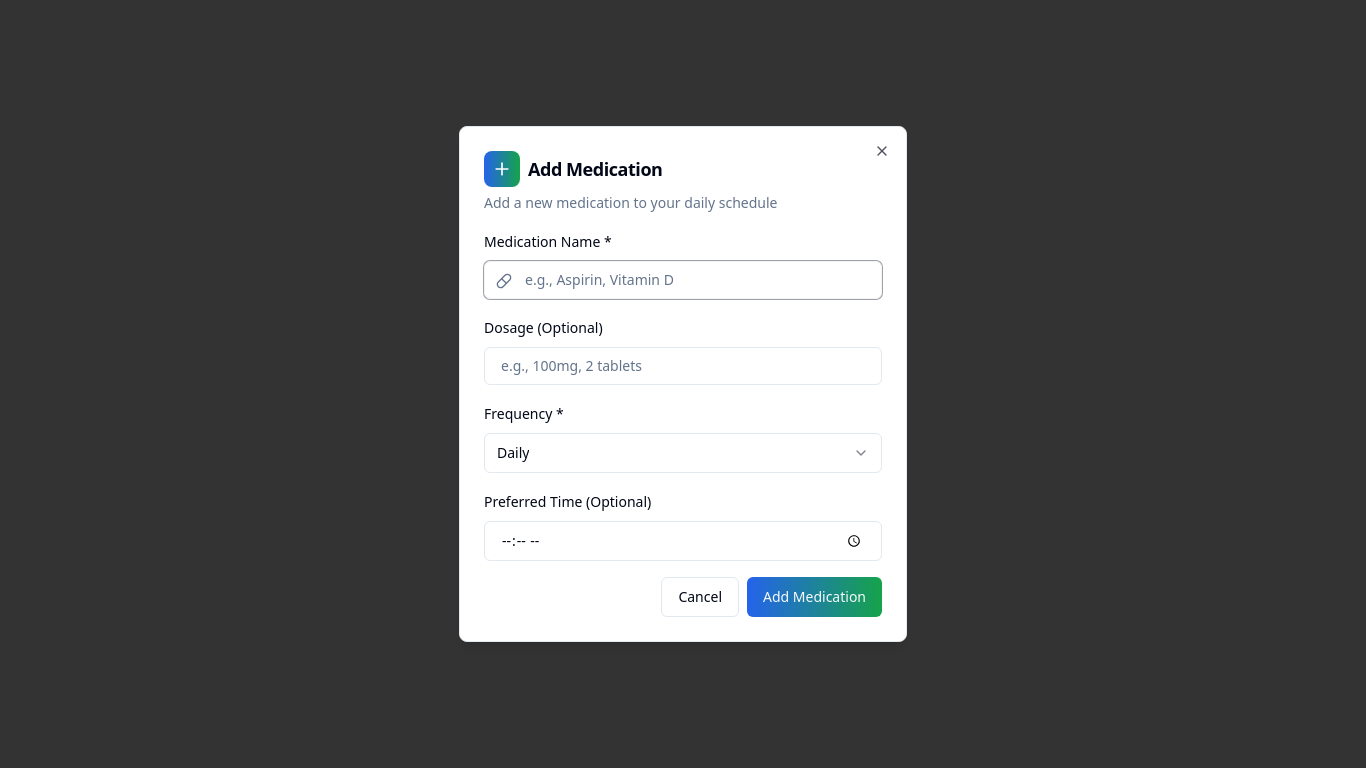
Test: MedicationForm › validates medication name minimum length
The image size is (1366, 768).
Type "A" into the field labelled "Medication Name *".
click(683, 280); type("A")  # box [484,261,882,299]
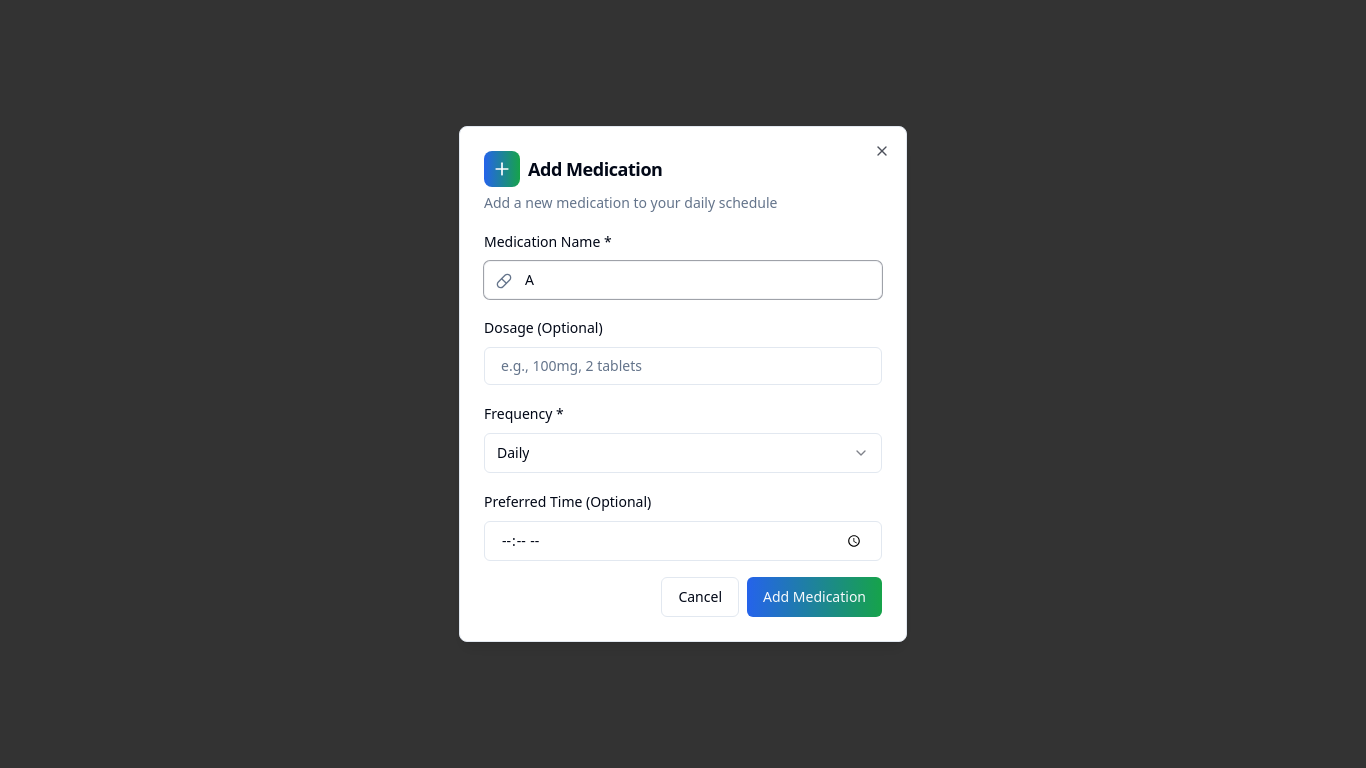
Click the button "Add Medication".
click(814, 597)  # box [747,577,882,617]
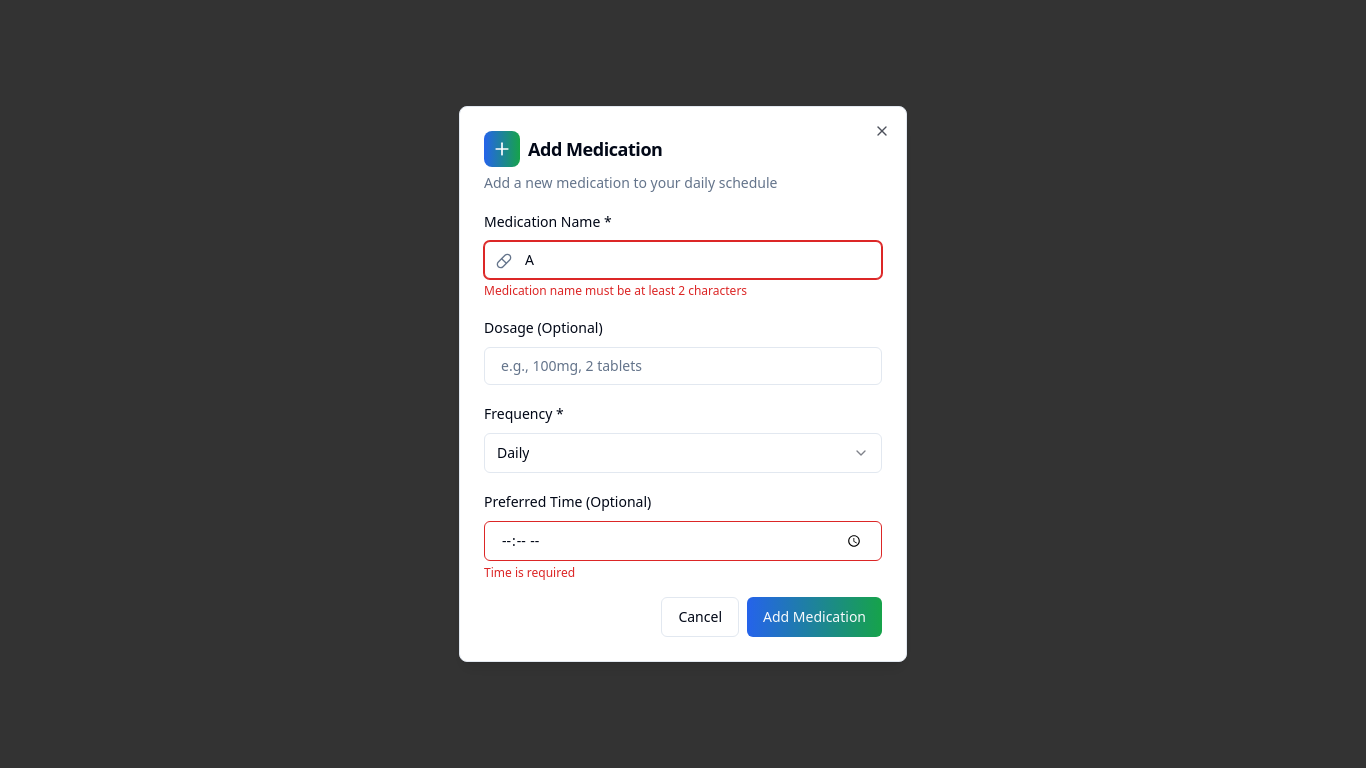
Expected: the text "Medication name must be at least 2 characters" is shown, [484,282,747,299]
